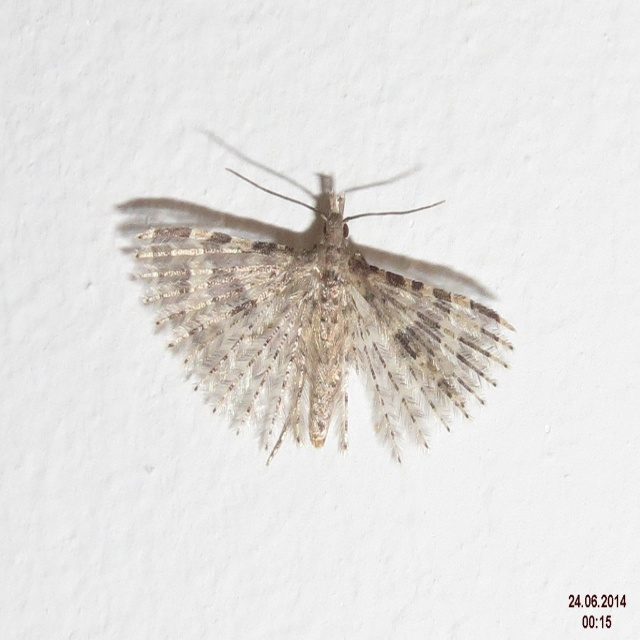Moths and butterflies: (132, 166, 520, 466)
